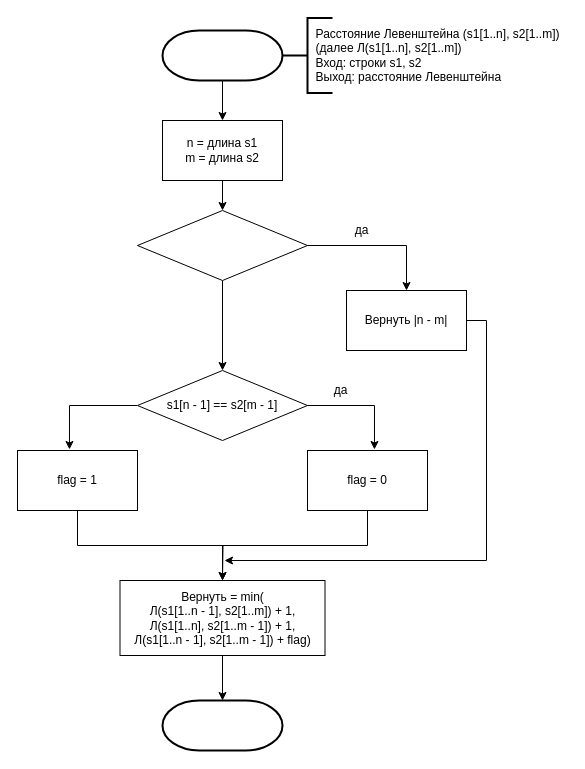
Image size: 585x769. Some labels were removed from this diagram. Here are the shapes that lost their labels. From the top down, the box of each, then its label:
(161, 29, 283, 81): Начало
(136, 210, 308, 280): n == 0 или m == 0
(161, 699, 283, 751): Конец
